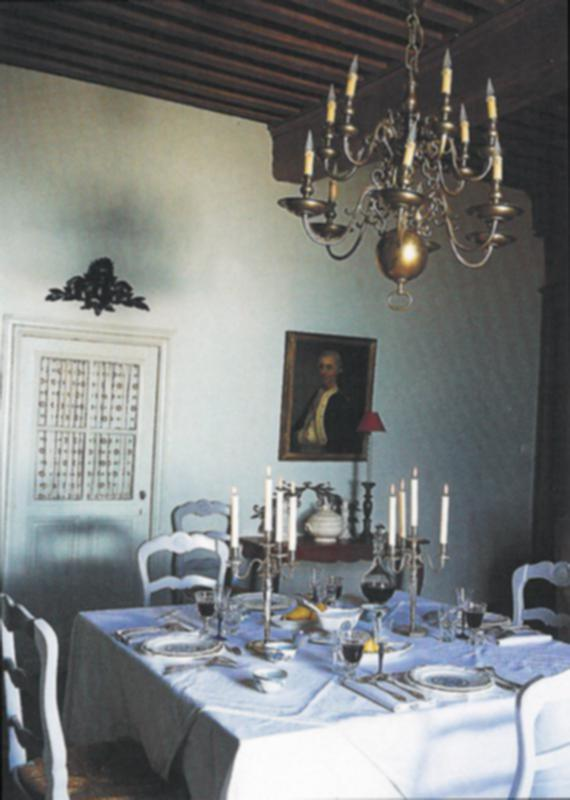Puerta: (14, 319, 152, 594)
